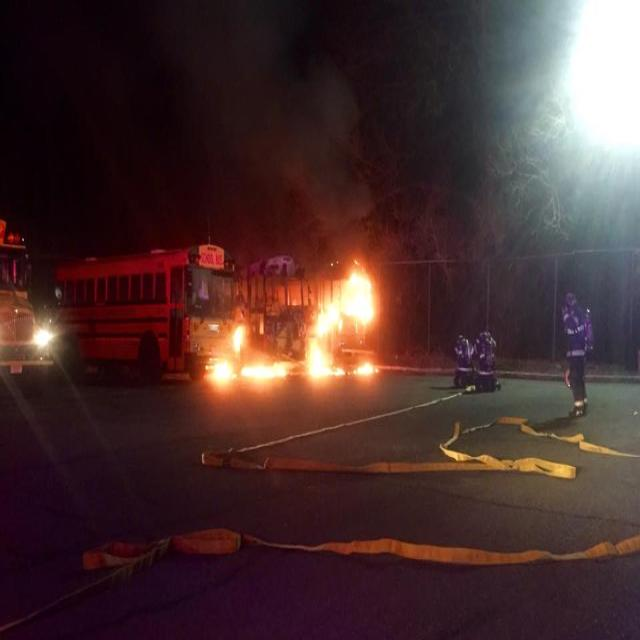Bus: (40, 229, 238, 409), (0, 177, 71, 401), (229, 230, 311, 375)
People: (552, 281, 592, 434), (467, 315, 508, 394), (444, 319, 480, 379)
